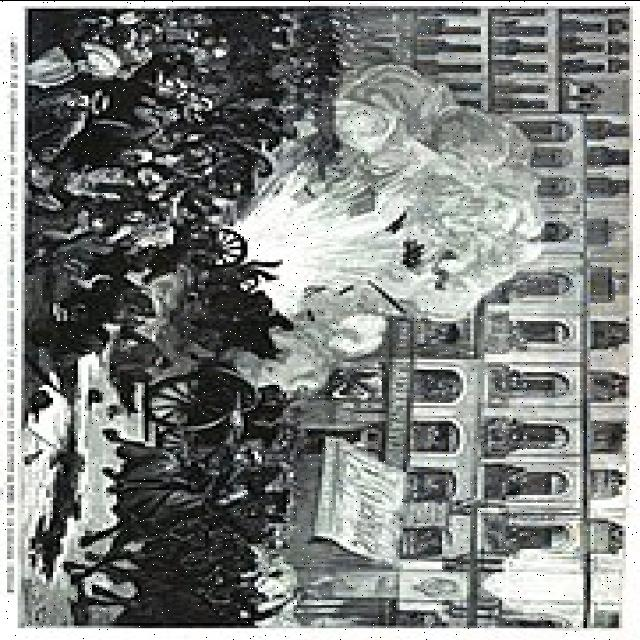explosion: (195, 48, 566, 358)
